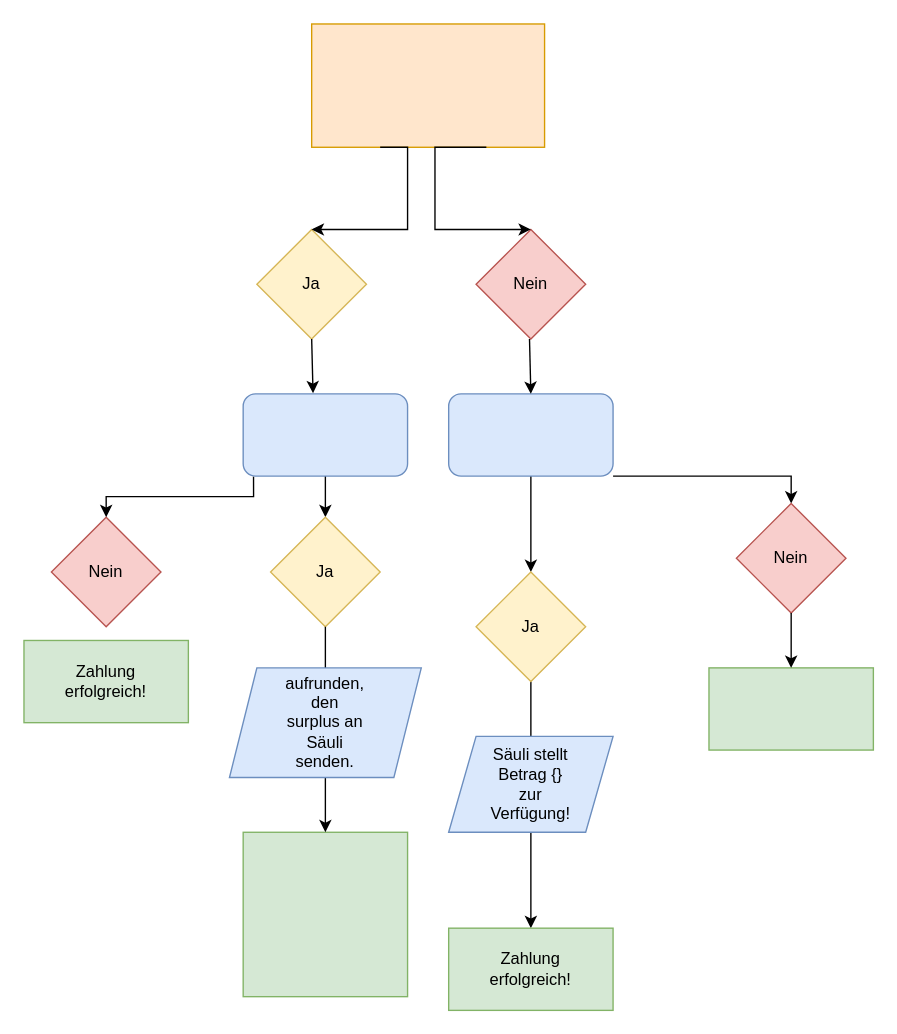
This 897x1034 diagram has some shape labels left out. The shapes that lost their labels are listed below. From the top down, each one's box as (x1, y1, x2, y2) in pixels, then its label:
(310, 23, 545, 147): Saldo ausreichend?
(242, 393, 408, 476): Endbetrag aufrunden?
(447, 393, 613, 476): Von Säuli {} CHF beziehen?
(708, 667, 873, 750): Artikel zurückgeben, Einkauf beenden.
(242, 831, 408, 997): Zahlung erfolgreich! Betrag {} wird dem Säuli hinzugefügt!
